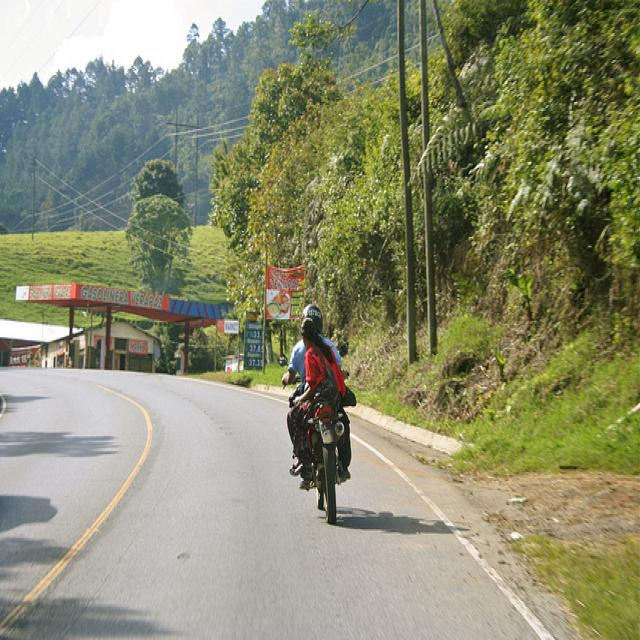motor: (276, 354, 344, 525)
